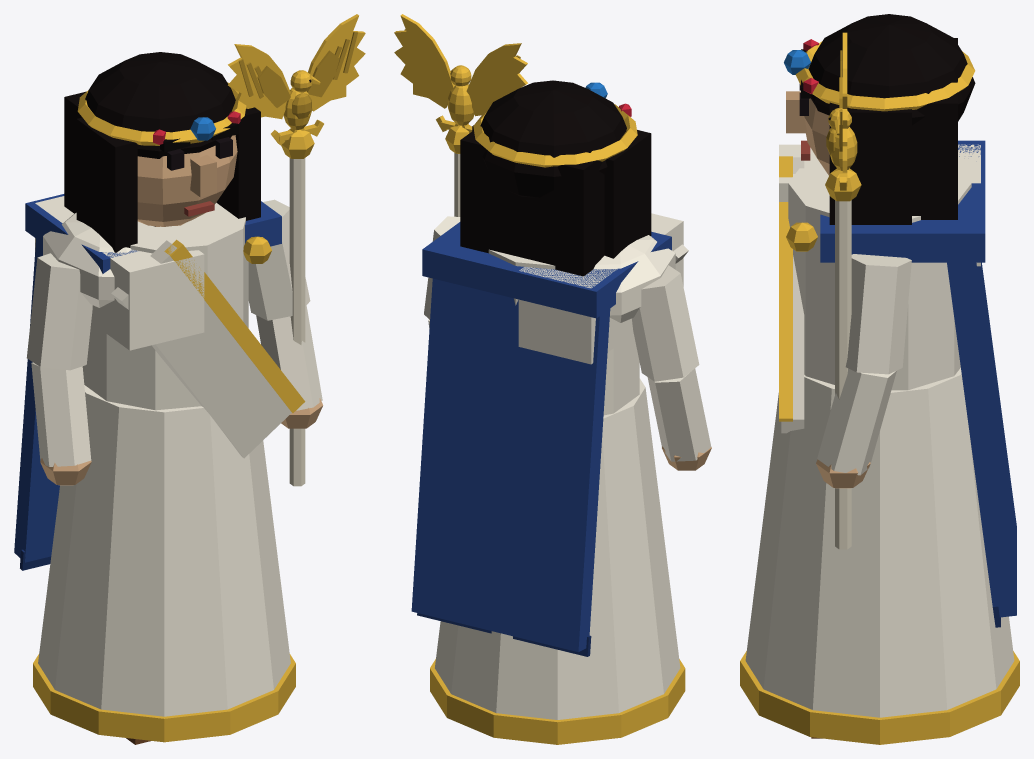
File: kleopatra.glb
3 renders of one model, left to right at view 1: azimuth 30°, elevation 25°; view 2: azimuth 150°, elevation 25°; view 3: azimuth 270°, elevation 25°, orthographic. The views are drawn at different scales.
Parts seen in each view (by area): view 1: cialo, glowa, reka_p, reka_l, peleryna; view 2: cialo, peleryna, glowa, reka_l, reka_p; view 3: cialo, glowa, reka_p, peleryna.
Boxes of the visible parts, box(x1,y1,x2,y2) form: cialo: box(25, 194, 305, 742); glowa: box(64, 52, 260, 252); reka_p: box(228, 14, 365, 486); reka_l: box(26, 253, 92, 485); peleryna: box(14, 239, 59, 570); cialo: box(422, 213, 688, 744); peleryna: box(411, 278, 610, 656); glowa: box(460, 80, 651, 276); reka_l: box(632, 265, 711, 470); reka_p: box(394, 14, 527, 328); cialo: box(740, 140, 1019, 744); glowa: box(784, 14, 975, 224); reka_p: box(816, 32, 911, 549); peleryna: box(947, 262, 1016, 627).
Size of the model in its own units: 0.858 by 1.69 by 0.61.
